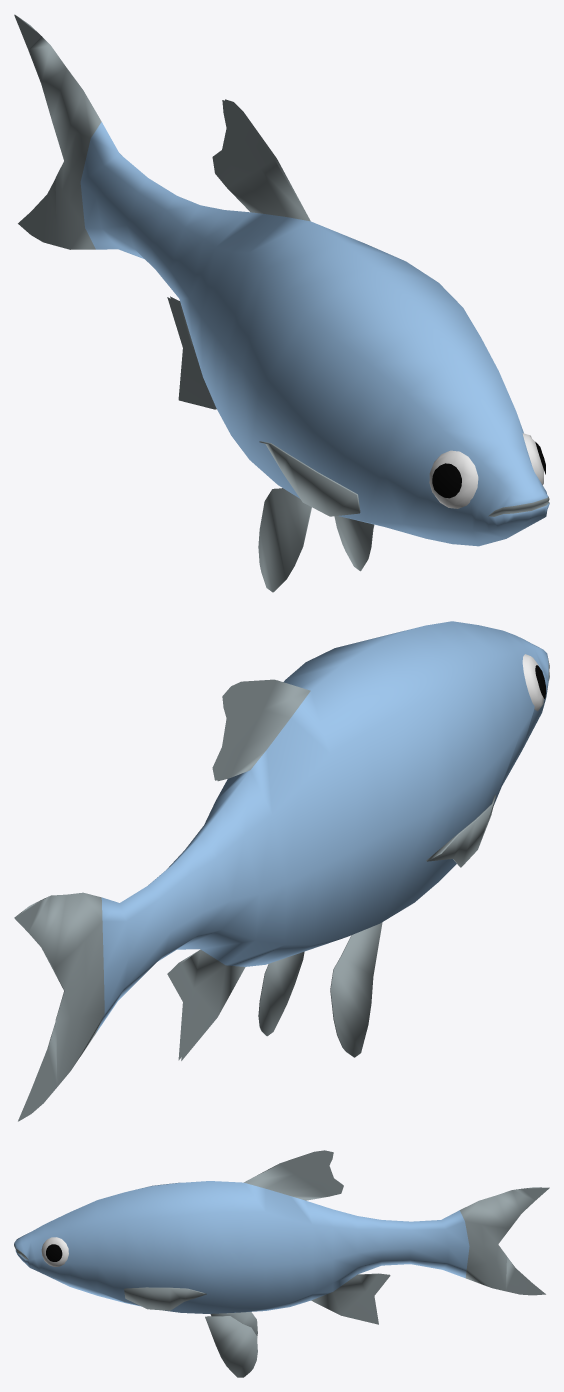
The model's file is fish.fbx.
The picture shows the model from 3 angles, top to bottom: view 1: azimuth 30°, elevation 25°; view 2: azimuth 150°, elevation 25°; view 3: azimuth 270°, elevation 25°; orthographic projection. The views are drawn at different scales.
Parts seen in each view (by area): view 1: Cube; view 2: Cube; view 3: Cube.
Part boxes in pixels (x1,y1,x2,y2): Cube: (14,14,549,592); Cube: (14,621,549,1121); Cube: (14,1150,549,1377).
Bounding box in the file's own units: 87.49 × 184 × 414.
